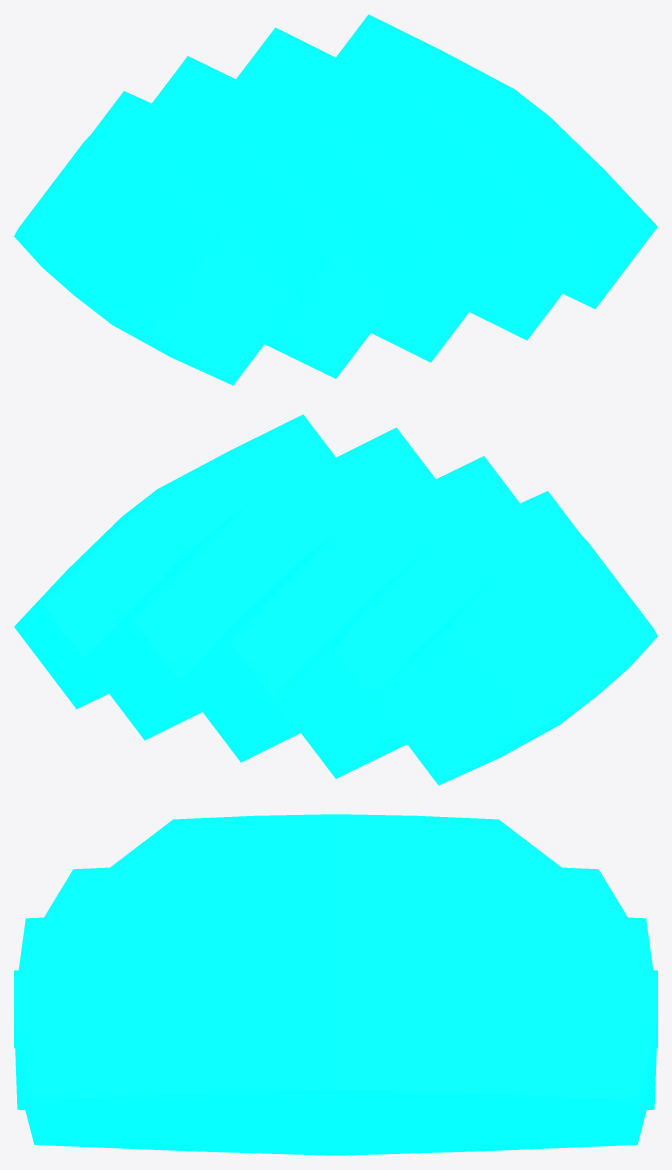
Rendered from MartianFish_Cutted.fbx.
3 renders of one model, top to bottom at view 1: azimuth 30°, elevation 25°; view 2: azimuth 150°, elevation 25°; view 3: azimuth 270°, elevation 25°, orthographic. The views are drawn at different scales.
Parts seen in each view (by area): view 1: MartianFish_Cutted; view 2: MartianFish_Cutted; view 3: MartianFish_Cutted.
Boxes of the visible parts, x1,y1,x2,y2 form: MartianFish_Cutted: (14,14,657,385); MartianFish_Cutted: (14,414,657,785); MartianFish_Cutted: (14,814,657,1155).
Bounding box in the file's own units: 25.67 × 24.58 × 7.85.
